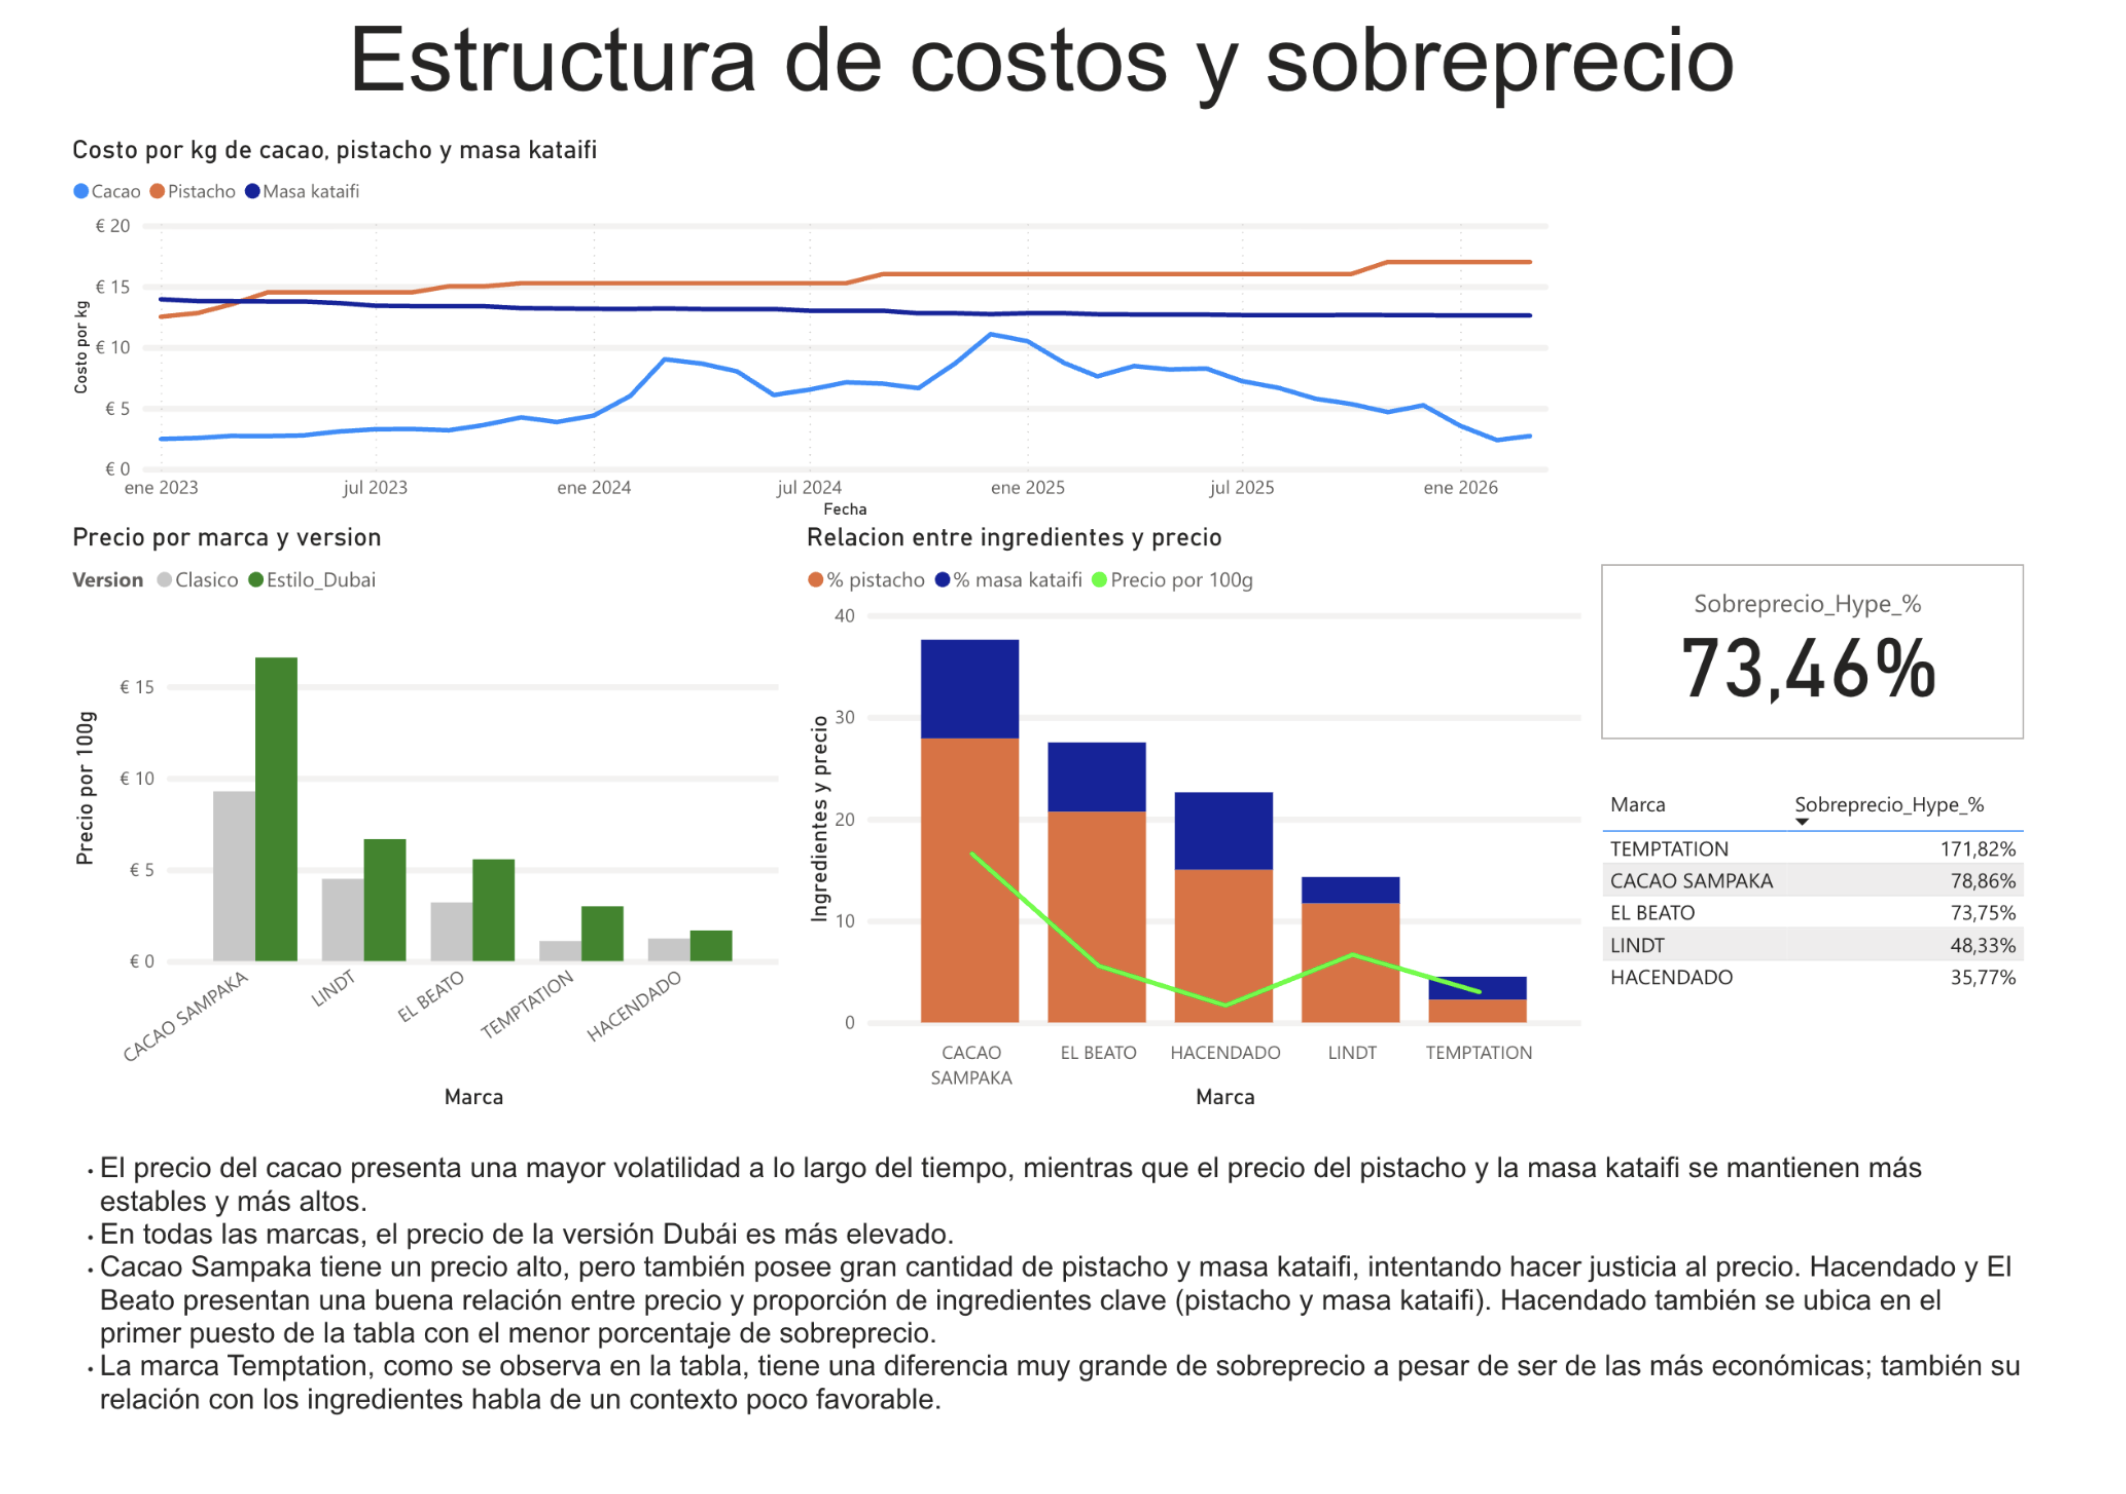

This screenshot's page, from the dashboard's own definition file:
{"tool":"powerbi","page":{"name":"Costo","canvas":[1280,950],"ordinal":4},"visuals":[{"type":"lineChart","title":"Costo por kg de cacao, pistacho y masa kataifi","fields":{"Y":["Sum(chocolate_dubai_tabla_final.costo_cacao_kg)","Sum(chocolate_dubai_tabla_final.costo_pistacho_kg)","Sum(chocolate_dubai_tabla_final.costo_kataifi_kg)"],"Category":["Calendario.Date"]},"box":[0,89.8,983.5,252.8],"z":0},{"type":"clusteredColumnChart","title":"Precio por marca y version","fields":{"Category":["Mercado_Chocolate_Dubai_Limpio.marca"],"Y":["Sum(Mercado_Chocolate_Dubai_Limpio.precio_100g)"],"Series":["Mercado_Chocolate_Dubai_Limpio.version"]},"box":[0,342.6,469.6,385.8],"z":1000},{"type":"lineStackedColumnComboChart","title":"Relacion entre ingredientes y precio","fields":{"Category":["Mercado_Chocolate_Dubai_Limpio.marca"],"Y":["Sum(Mercado_Chocolate_Dubai_Limpio.%_pistacho)","Sum(Mercado_Chocolate_Dubai_Limpio.%_masa_kadayif)"],"Y2":["Sum(Mercado_Chocolate_Dubai_Limpio.precio_100g)"]},"box":[478,342.6,513.9,385.8],"z":2000},{"type":"cardVisual","fields":{"Data":["Mercado_Chocolate_Dubai_Limpio.Sobreprecio_Hype_%"]},"box":[994.3,363,285.1,124.6],"z":3000},{"type":"tableEx","fields":{"Values":["Mercado_Chocolate_Dubai_Limpio.marca","Mercado_Chocolate_Dubai_Limpio.Sobreprecio_Hype_%"]},"box":[994.3,507.9,285.1,154.5],"z":4000},{"type":"textbox","box":[0,745.1,1279.4,204.9],"z":5000},{"type":"textbox","box":[179.7,0,920.1,80.3],"z":6000}]}

Visuals, with their boxes on the page's 1280x950 design canvas (x1, y1, x2, y2). These are canvas units, not pixel positions in the 2126x1494 screenshot, which may show the page scaled, cropped or inside an application window:
"Costo por kg de cacao, pistacho y masa kataifi" lineChart: <bbox>0, 90, 984, 343</bbox>
"Precio por marca y version" clusteredColumnChart: <bbox>0, 343, 470, 728</bbox>
"Relacion entre ingredientes y precio" lineStackedColumnComboChart: <bbox>478, 343, 992, 728</bbox>
cardVisual - Mercado_Chocolate_Dubai_Limpio.Sobreprecio_Hype_%: <bbox>994, 363, 1279, 488</bbox>
tableEx - Mercado_Chocolate_Dubai_Limpio.marca x Mercado_Chocolate_Dubai_Limpio.Sobreprecio_Hype_%: <bbox>994, 508, 1279, 662</bbox>
textbox: <bbox>0, 745, 1279, 950</bbox>
textbox: <bbox>180, 0, 1100, 80</bbox>
